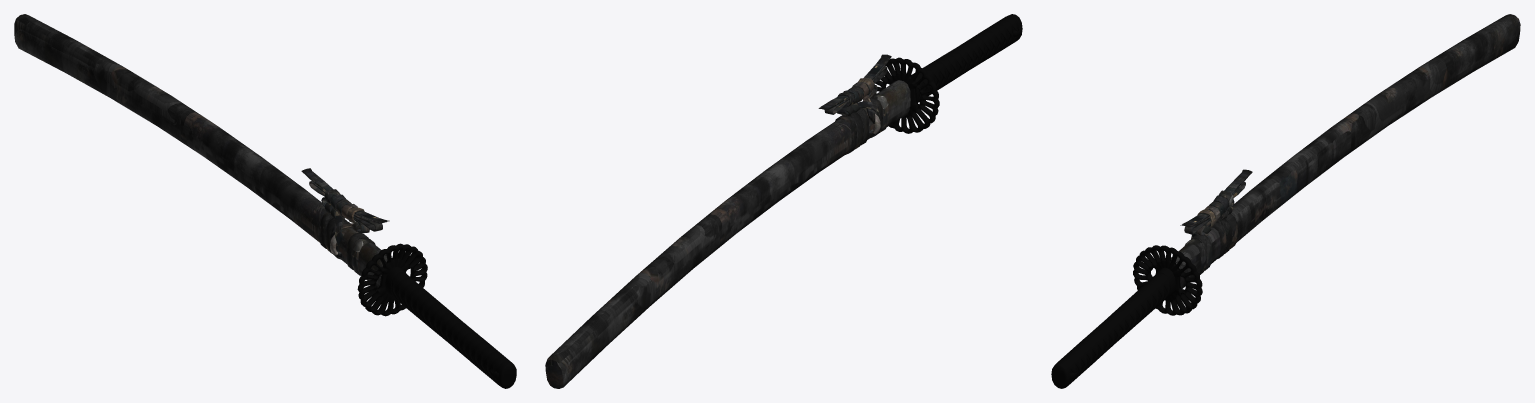
Rendered from katana.glb.
3 views of the same model, side by side, from view 1: azimuth 30°, elevation 25°; view 2: azimuth 150°, elevation 25°; view 3: azimuth 330°, elevation 25° (orthographic).
Parts seen in each view (by area): view 1: 6_+Holster.Scabbard_0.1_0_0.001, 4_+Katana|Holster_0.1_0_0.001; view 2: 6_+Holster.Scabbard_0.1_0_0.001, 4_+Katana|Holster_0.1_0_0.001; view 3: 6_+Holster.Scabbard_0.1_0_0.001, 4_+Katana|Holster_0.1_0_0.001.
Boxes of the visible parts, left/top/right/bottom form: 6_+Holster.Scabbard_0.1_0_0.001: left=14, top=14, right=389, bottom=287; 4_+Katana|Holster_0.1_0_0.001: left=357, top=243, right=516, bottom=388; 6_+Holster.Scabbard_0.1_0_0.001: left=545, top=54, right=910, bottom=388; 4_+Katana|Holster_0.1_0_0.001: left=874, top=14, right=1022, bottom=133; 6_+Holster.Scabbard_0.1_0_0.001: left=1171, top=14, right=1520, bottom=288; 4_+Katana|Holster_0.1_0_0.001: left=1051, top=245, right=1202, bottom=388.
Bounding box in the file's own units: 0.0916 × 0.1085 × 1.09.
Materials: 2 (2 with a texture image).
